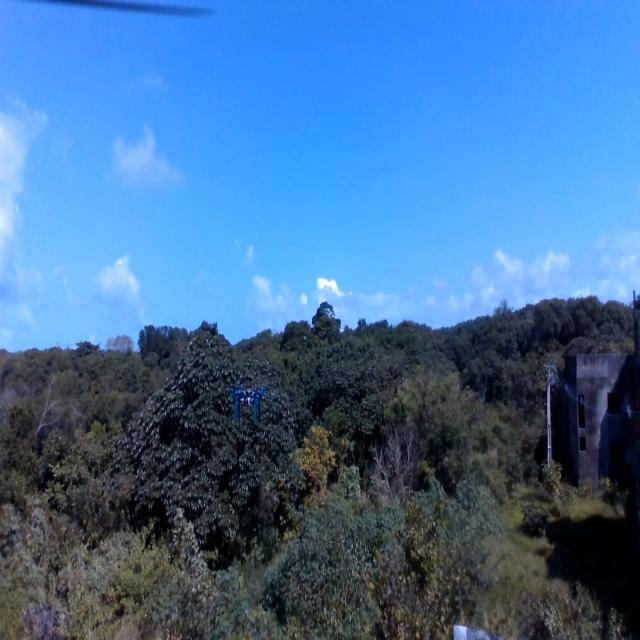-uav-: (216, 373, 280, 437)
